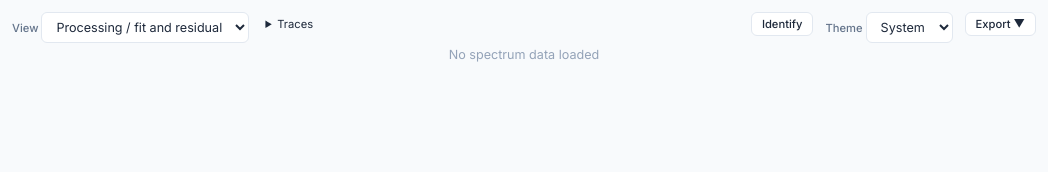
Test: Identification evidence › rejects a stale source digest
Click the button "Identify": coordinates (782, 24) [751, 12, 814, 36]
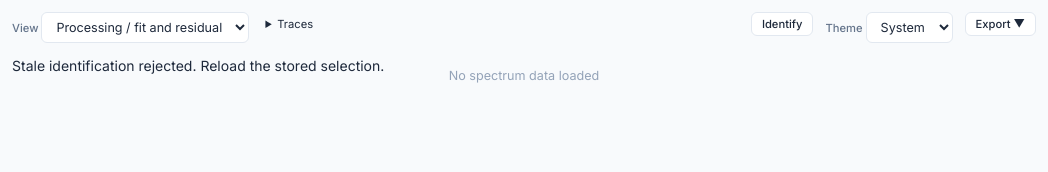
Check: the message shows "Stale identification rejected", box [12, 57, 384, 74]
